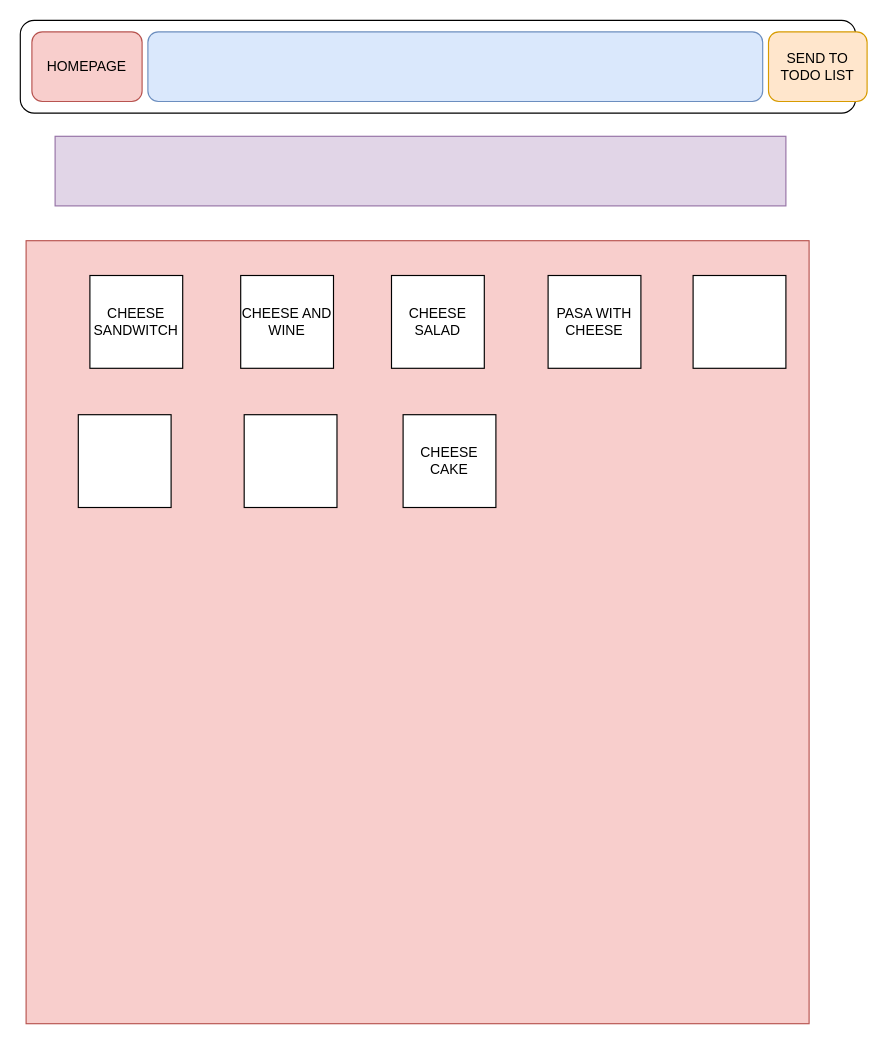
The diagram is 887 pixels wide and 1044 high, and some of its shapes have lost their labels. Each missing label, with the centre of its shape:
"BY CLICKING INGRIDIENTS SHOWS ALL FOODS INCLUDES THAT INGRIDIENTS" goes at (x=455, y=66).
"CHEESE" goes at (x=420, y=170).
